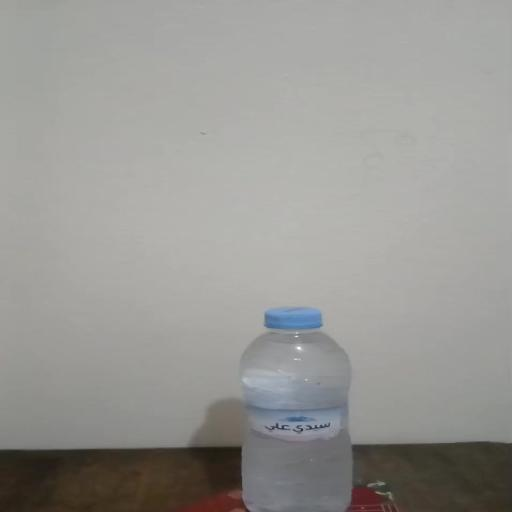bouteille conformite: (170, 292, 390, 512)
